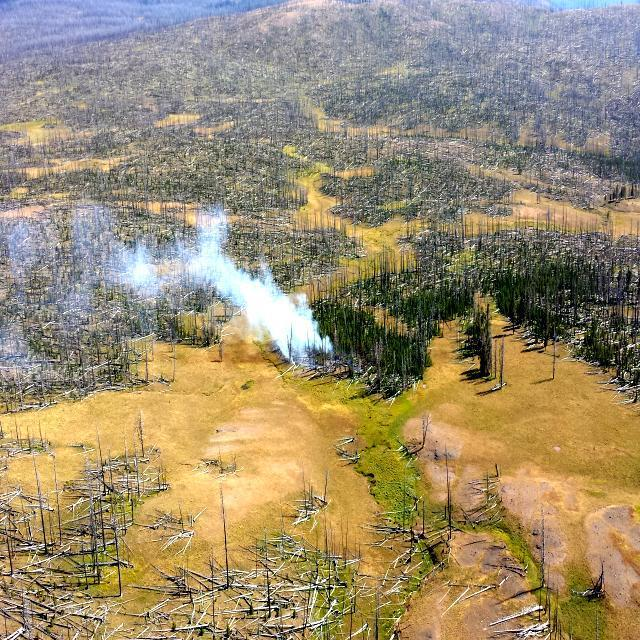Smoke: (120, 193, 334, 364)
